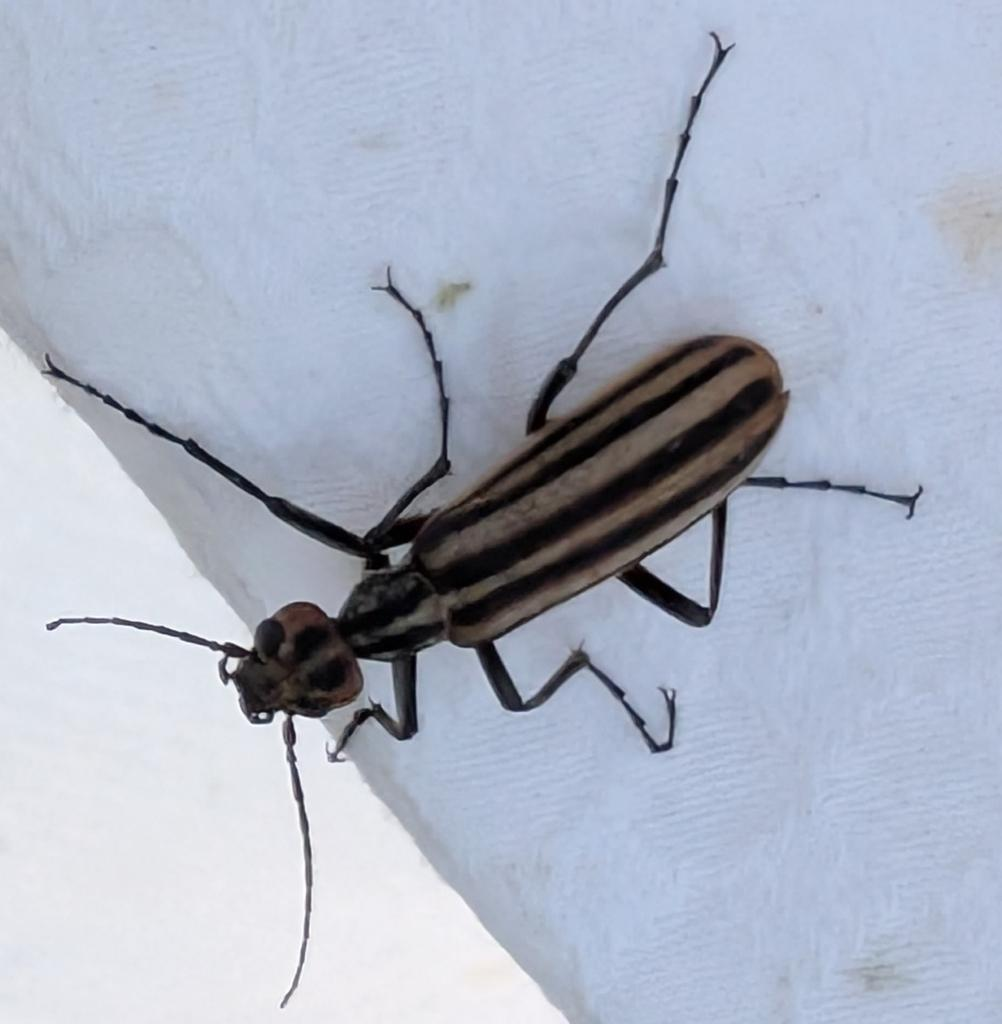blister_beetle: (0, 15, 1002, 1024)
